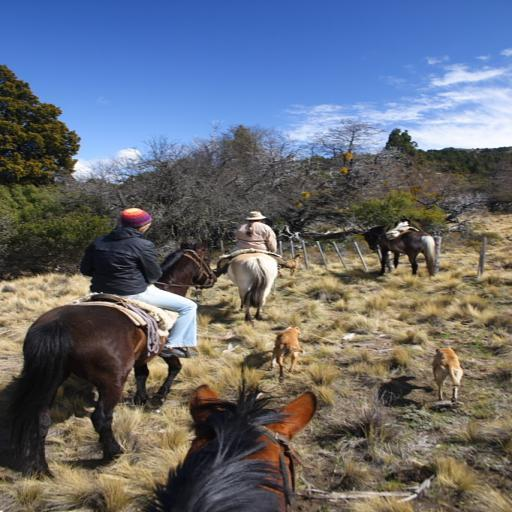Horse: (14, 243, 218, 480), (132, 380, 322, 512), (358, 225, 437, 277), (224, 250, 280, 323)
